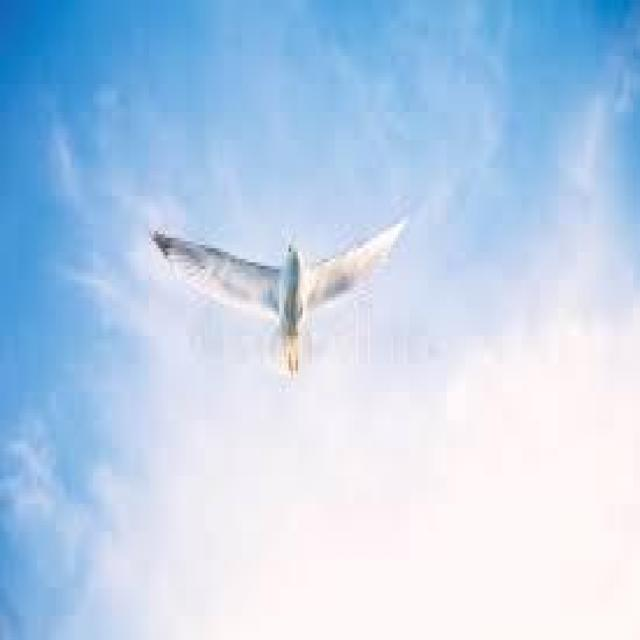bird: (139, 193, 418, 383)
